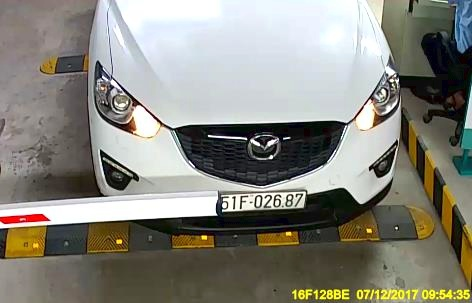plate: (222, 187, 312, 218)
